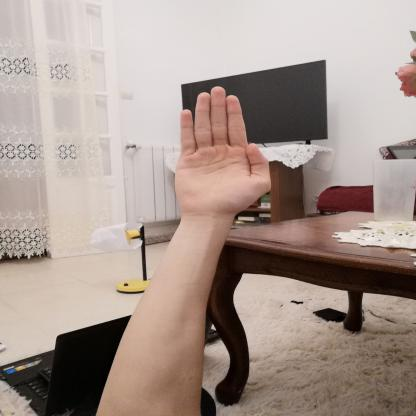SEEN: (167, 78, 280, 221)
